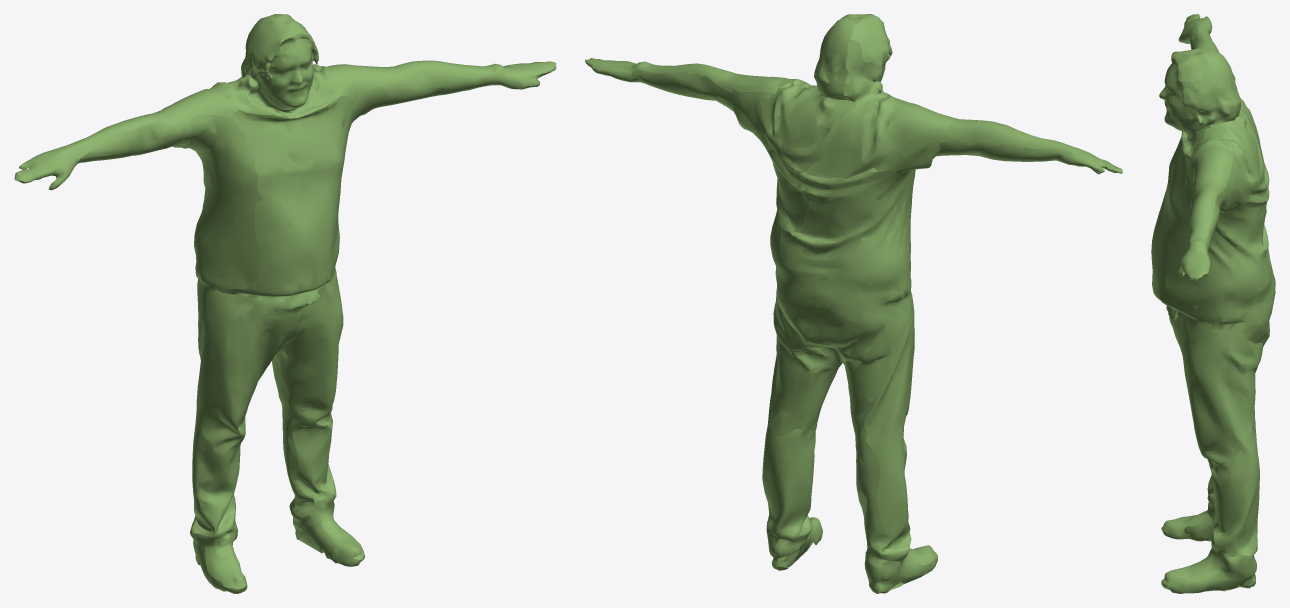
The picture shows the model from 3 angles, left to right: view 1: azimuth 30°, elevation 25°; view 2: azimuth 150°, elevation 25°; view 3: azimuth 270°, elevation 25°; orthographic projection. The views are drawn at different scales.
Visible parts, largest first — view 1: split_parent_0; view 2: split_parent_0; view 3: split_parent_0.
Boxes of the visible parts, <box> form: split_parent_0: <box>14,14,556,593</box>; split_parent_0: <box>585,14,1122,593</box>; split_parent_0: <box>1151,14,1275,593</box>.
Bounding box in the file's own units: 1 × 0.9708 × 0.2125.
